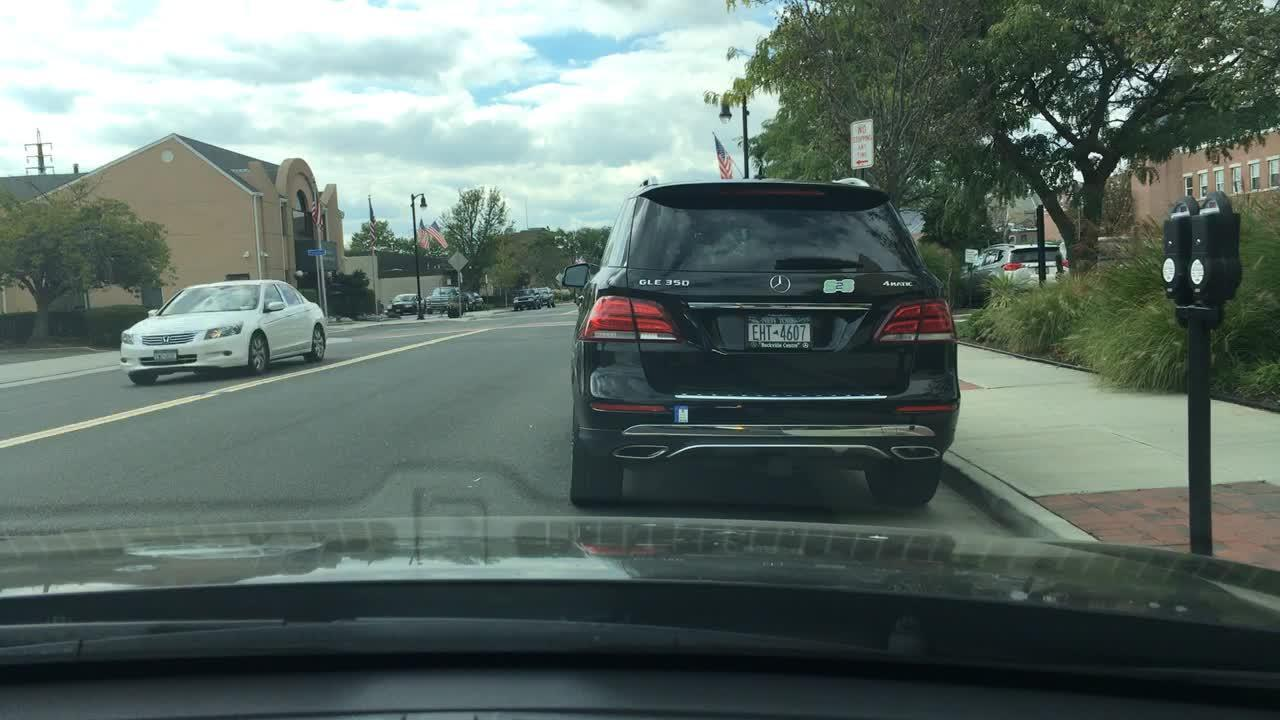Mercedes: (765, 272, 793, 299)
